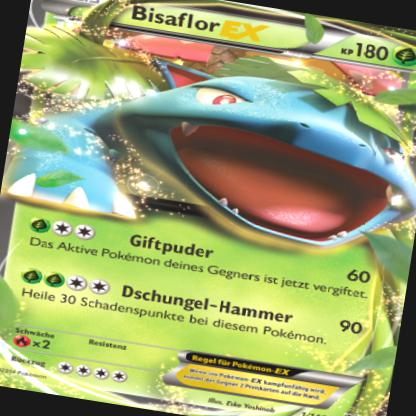Venusaur: (7, 15, 416, 266)
